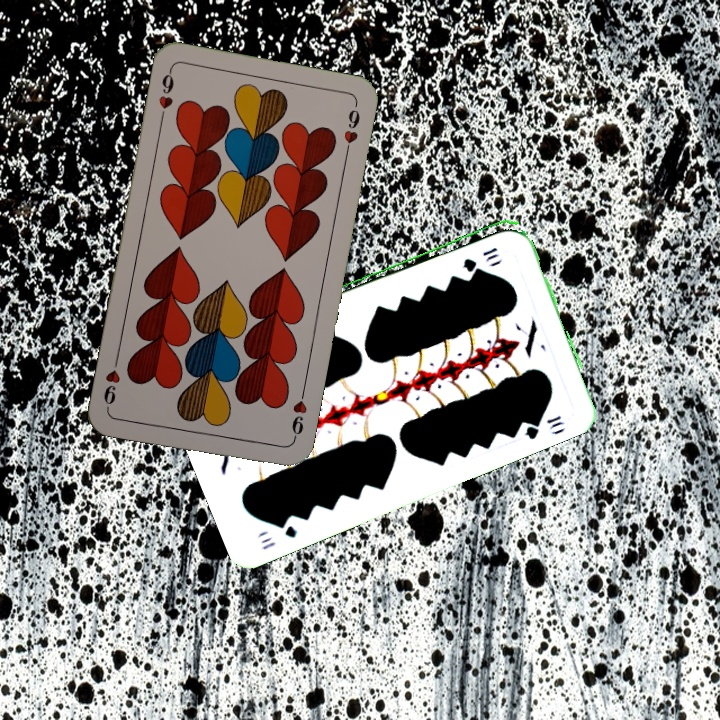G10: (257, 516, 299, 553), (458, 243, 500, 271)
H9: (287, 385, 310, 444), (155, 65, 177, 125)
